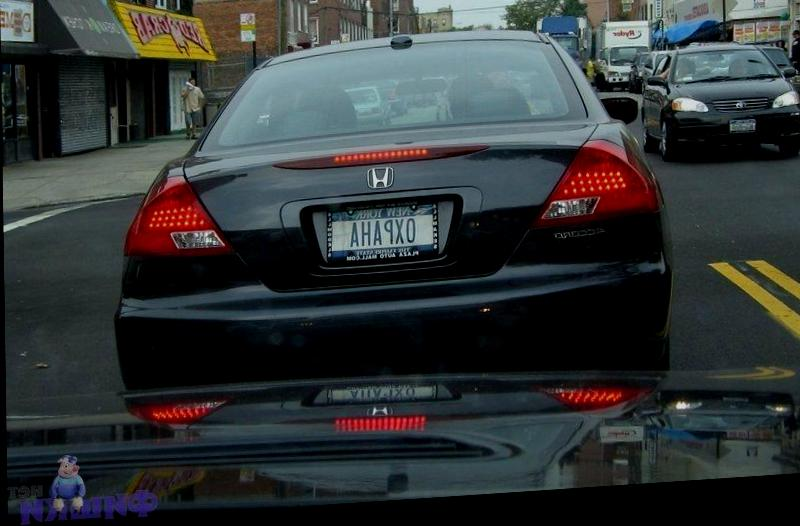License_Plate: (317, 188, 449, 276)
